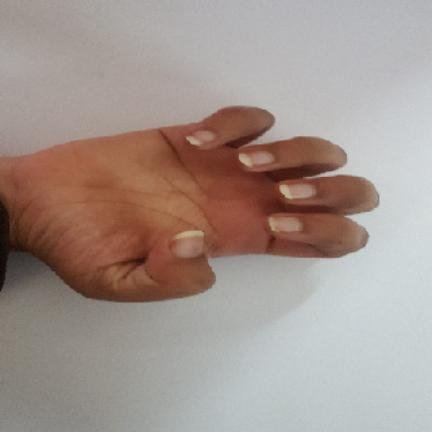Nail: (171, 231, 204, 259), (239, 151, 274, 168), (279, 184, 317, 199), (185, 130, 217, 147), (268, 217, 303, 232)
